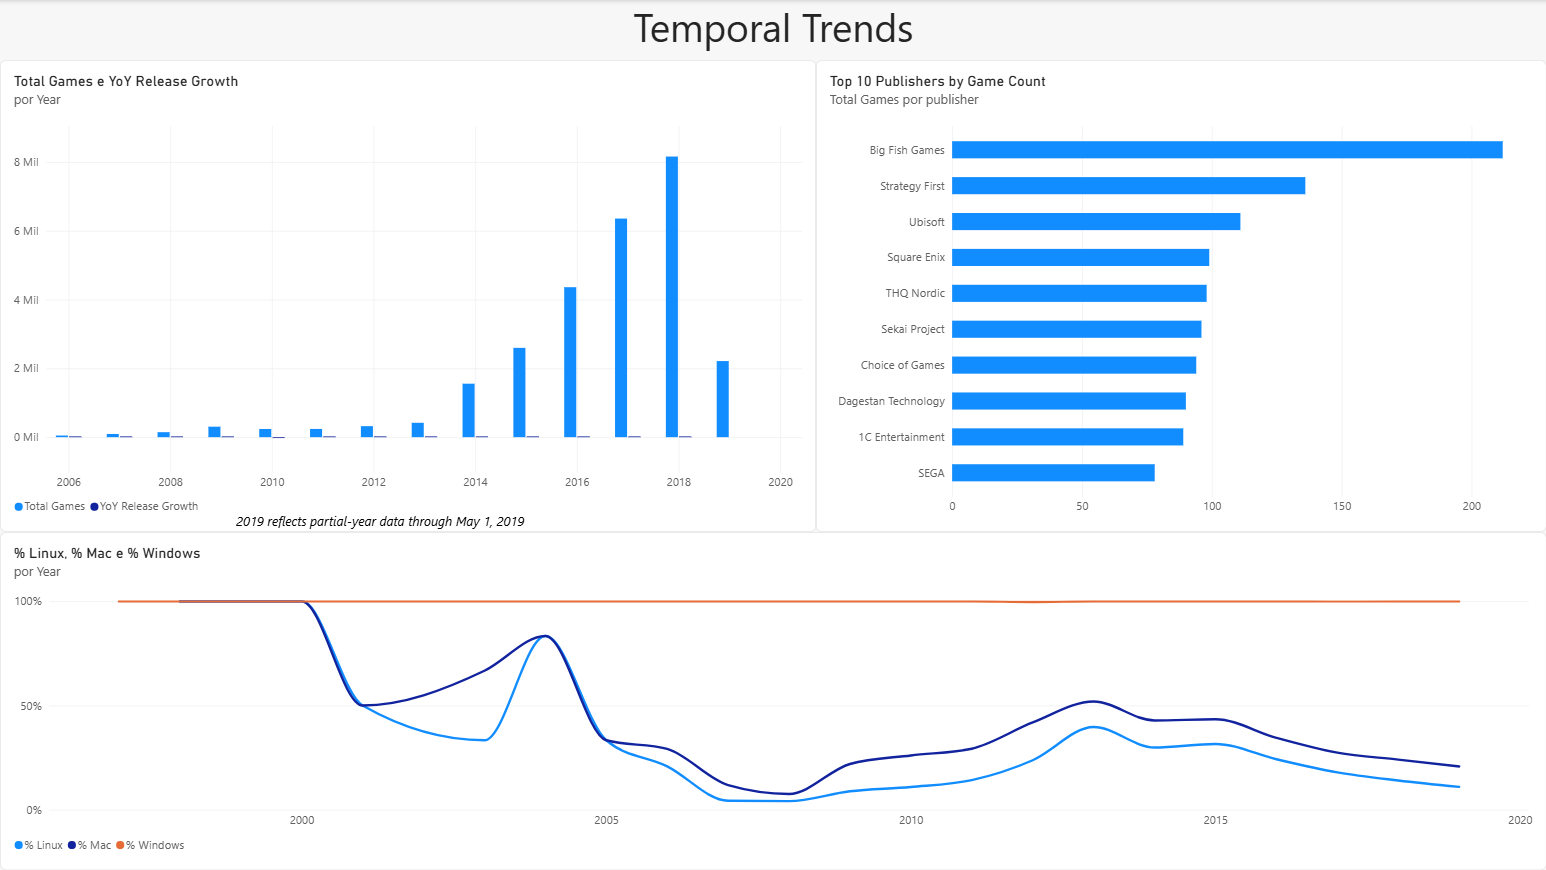

The dashboard page shown, as its layout file describes it:
{"tool":"powerbi","page":{"name":"Página 3","canvas":[1920,1080],"ordinal":2},"visuals":[{"type":"lineClusteredColumnComboChart","fields":{"Category":["YearTable.Year"],"Y":["fact_games.Total Games","fact_games.YoY Release Growth"]},"box":[0,74.7,1012.7,585.9],"z":0},{"type":"textbox","box":[293.2,635.9,368.9,24.7],"z":1},{"type":"lineChart","fields":{"Category":["YearTable.Year"],"Y":["fact_games.% Linux","fact_games.% Mac","fact_games.% Windows"]},"box":[0,660.6,1920,419.8],"z":2},{"type":"barChart","title":"Top 10 Publishers by Game Count","fields":{"Category":["fact_games.publisher"],"Y":["fact_games.Total Games"]},"box":[1012.7,74.7,907.3,585.9],"z":3},{"type":"textbox","box":[0,0,1920,74.7],"z":4}]}

Visuals, with their boxes in screenshot pixels (x1, y1, x2, y2), scaled from the page's 1920x1080 canvas onto the 1546x870 screenshot:
lineClusteredColumnComboChart - YearTable.Year x fact_games.Total Games: 0,60,815,532
textbox: 236,512,533,532
lineChart - YearTable.Year x fact_games.% Linux: 0,532,1545,869
"Top 10 Publishers by Game Count" barChart: 815,60,1545,532
textbox: 0,0,1545,60
